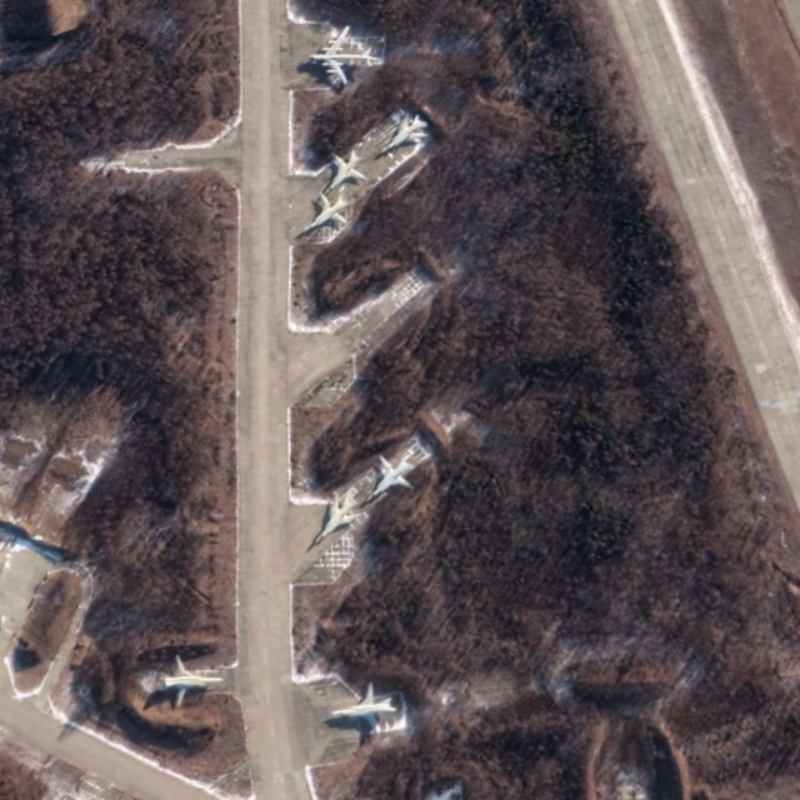A12: (152, 650, 228, 709), (328, 678, 398, 739), (361, 450, 417, 509), (308, 488, 360, 547), (374, 106, 432, 158), (297, 189, 350, 236), (324, 145, 370, 196)
A17: (303, 22, 383, 89)
